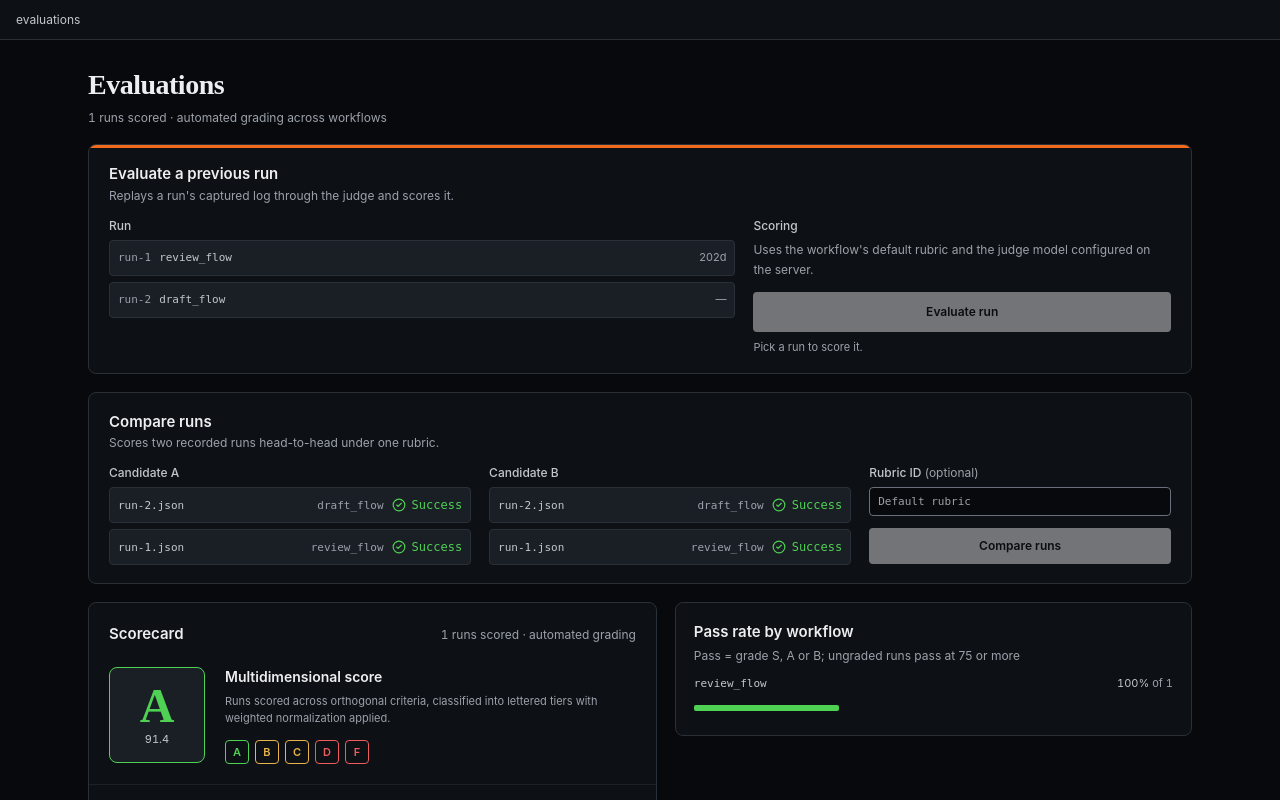
Test case: EvaluationsPage › evaluates a selected previous run and shows the score
expect the button "Evaluate run" is disabled: met, box [753,292,1171,332]
Click the button "run-2 draft_flow —" at (135, 300), box [109,282,735,318]
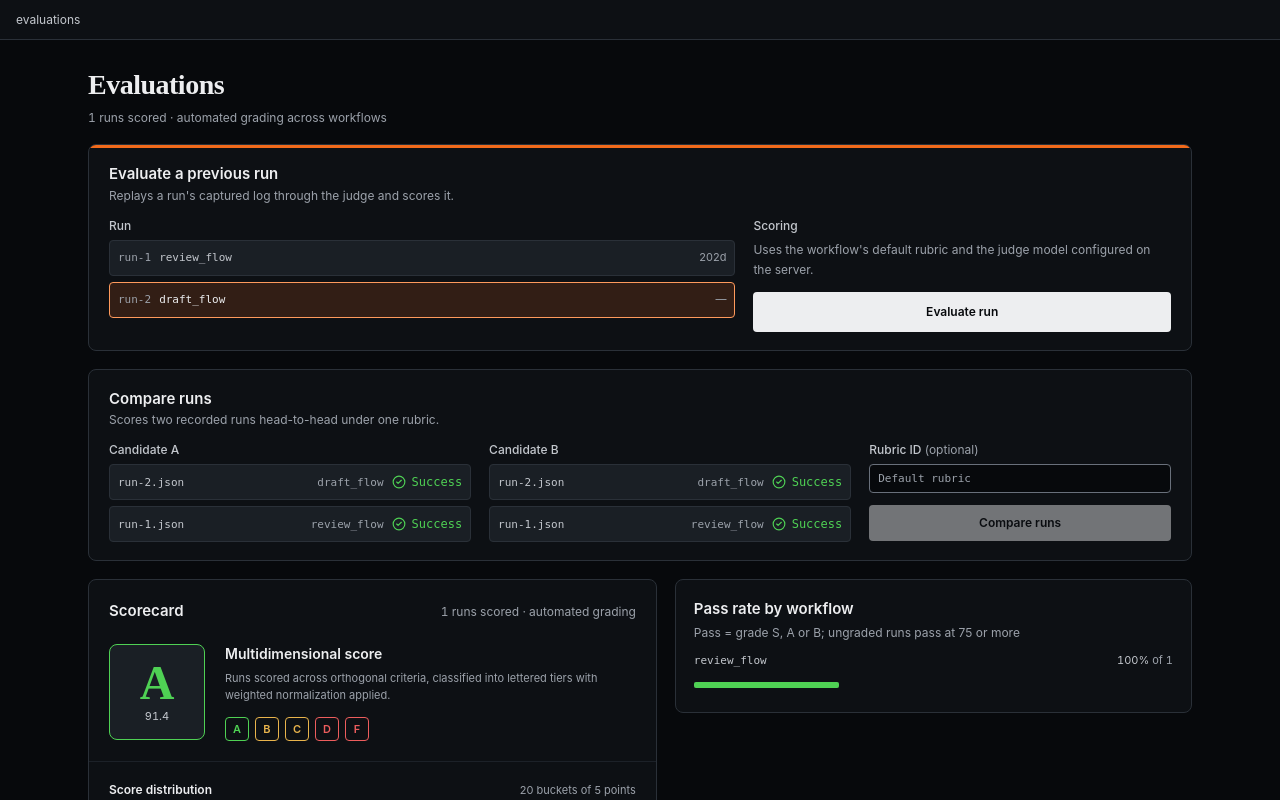
expect the button "Evaluate run" is enabled: met
Click the button "Evaluate run" at (962, 312), box [753,292,1171,332]
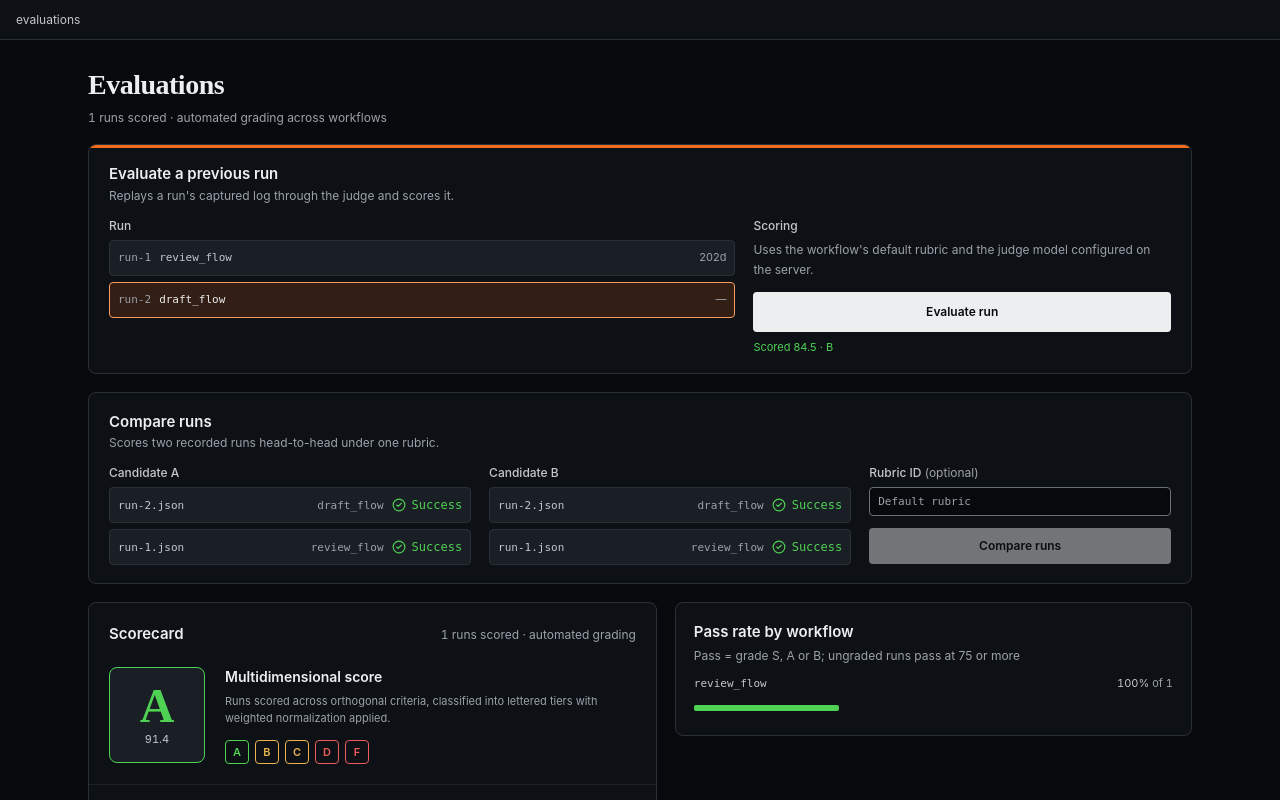
expect the text "Scored 84.5 · B" is shown: met, box [753,340,833,354]
